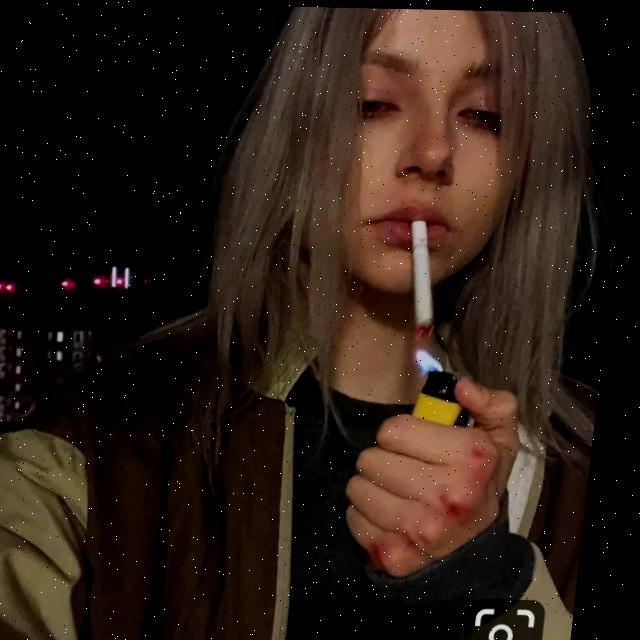cigarette: (405, 219, 452, 339)
